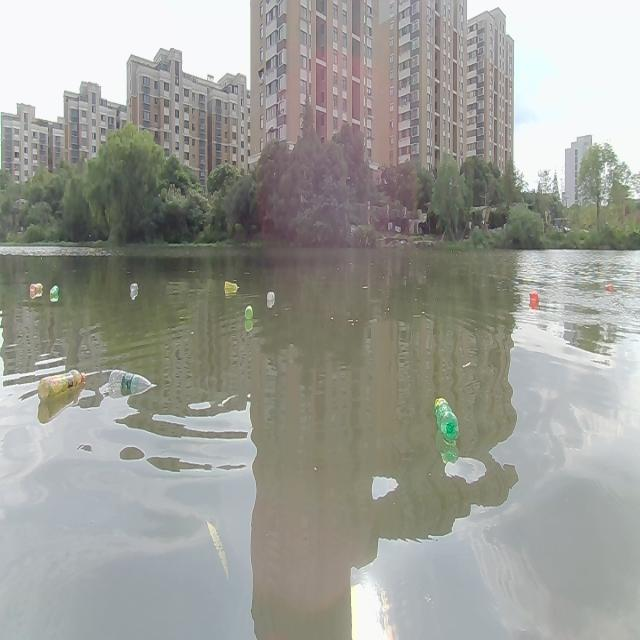bottle: (38, 367, 85, 409), (109, 366, 152, 404), (434, 393, 458, 440), (526, 288, 548, 308), (221, 281, 241, 295), (48, 286, 62, 302), (28, 282, 42, 298), (243, 303, 252, 323), (267, 288, 275, 306), (131, 284, 137, 300)
